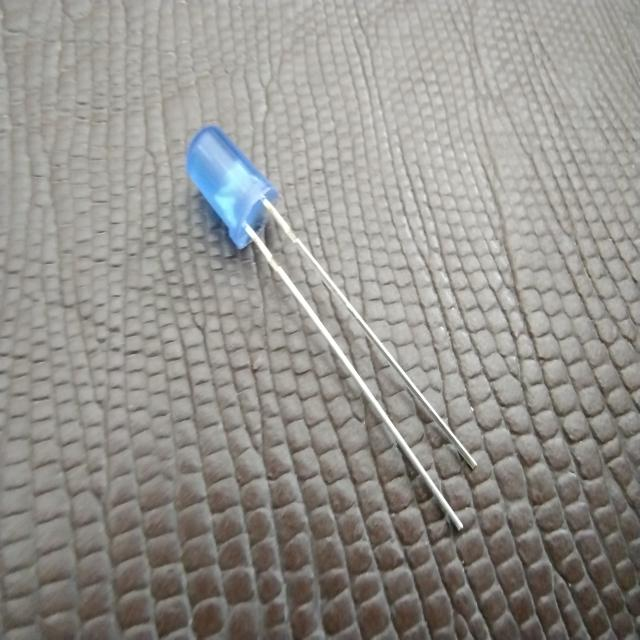blue_led: (185, 123, 279, 250)
